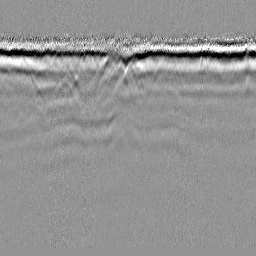cavity: (122, 60, 138, 84)
